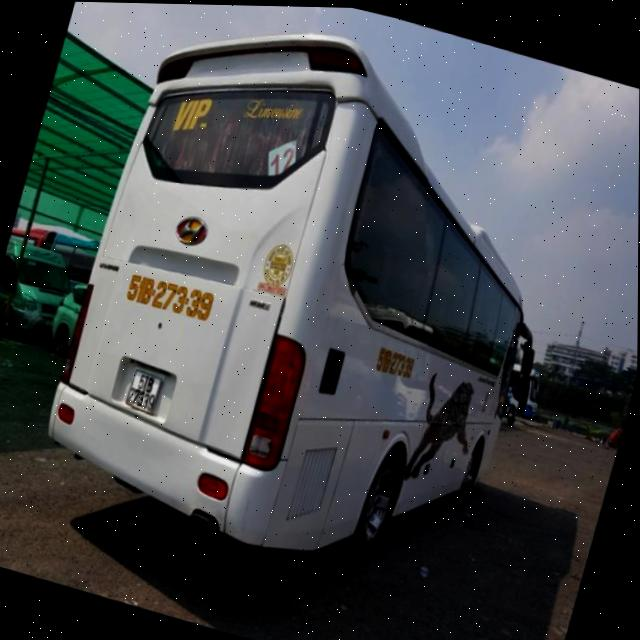car: (34, 1, 587, 627), (0, 230, 92, 359)
plate: (111, 358, 176, 425)
